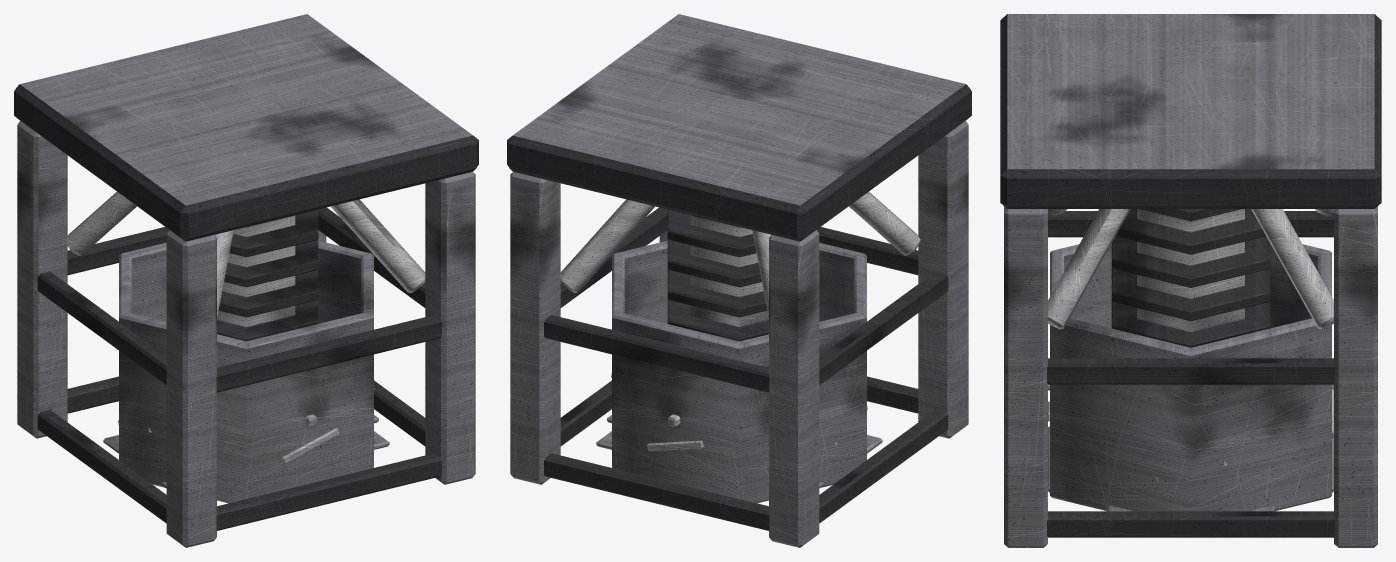
File: R4M_HoverEngine_LOD1.glb
The picture shows the model from 3 angles, left to right: view 1: azimuth 30°, elevation 25°; view 2: azimuth 150°, elevation 25°; view 3: azimuth 270°, elevation 25°; orthographic projection. The views are drawn at different scales.
Parts seen in each view (by area): view 1: R4M_HoverEngine_LOD1; view 2: R4M_HoverEngine_LOD1; view 3: R4M_HoverEngine_LOD1.
Part boxes in pixels (<box>): R4M_HoverEngine_LOD1: <box>14,14,478,547</box>; R4M_HoverEngine_LOD1: <box>507,14,971,547</box>; R4M_HoverEngine_LOD1: <box>1000,14,1381,547</box>.
Size of the model in its own units: 0.52 by 0.577 by 0.52.
3 materials, 3 textured.
